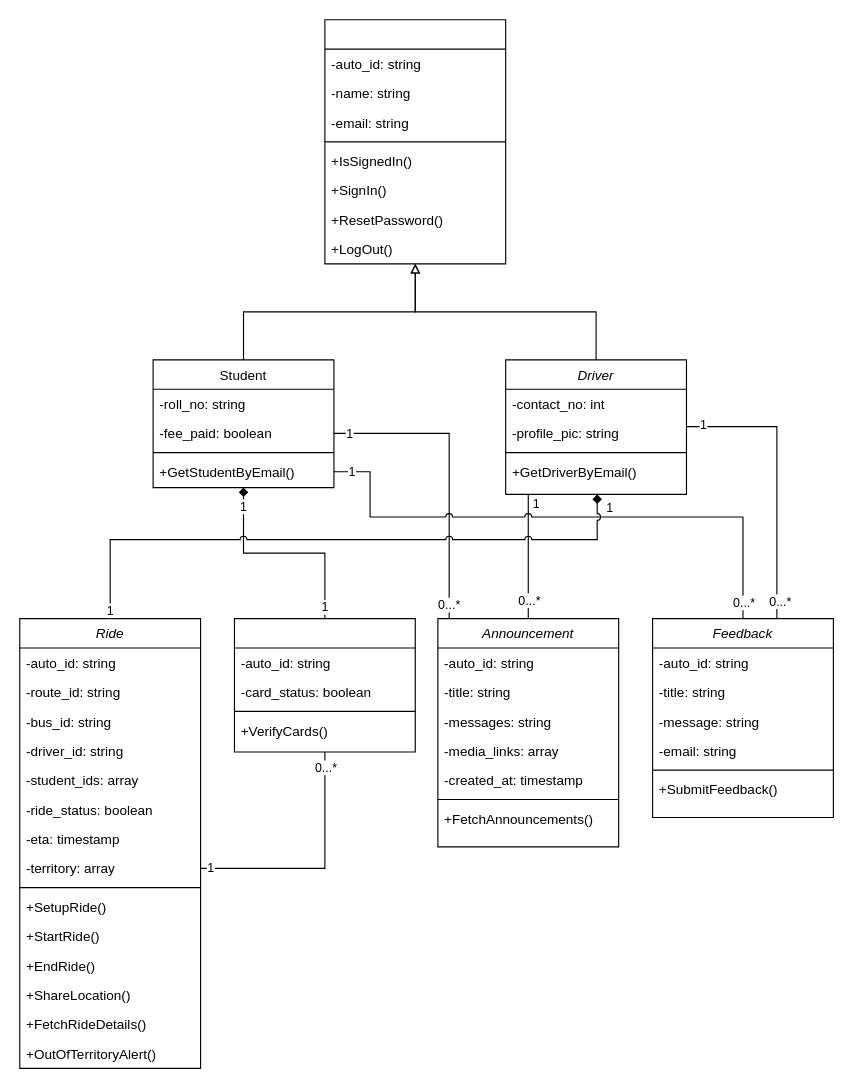
Image size: 853x1092. Some labels were removed from this diagram. Each missing label, with the box of its shape:
Bus Card: (233, 618, 415, 752)
Person: (324, 19, 506, 264)
